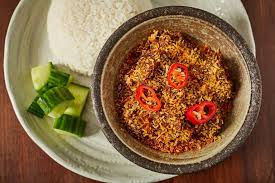rendang: (100, 19, 248, 155)
